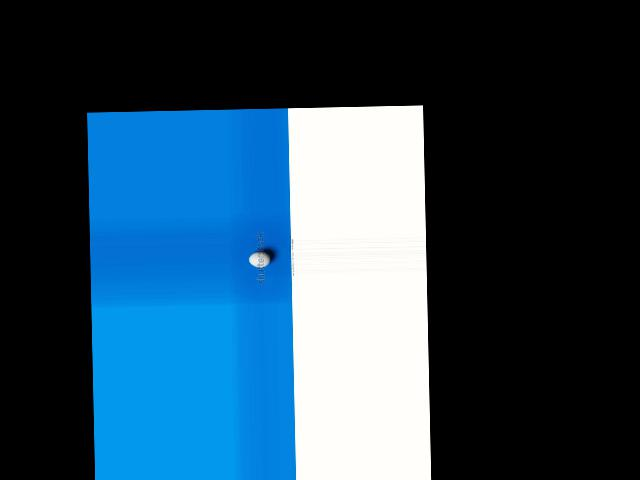egg: (248, 251, 271, 267)
